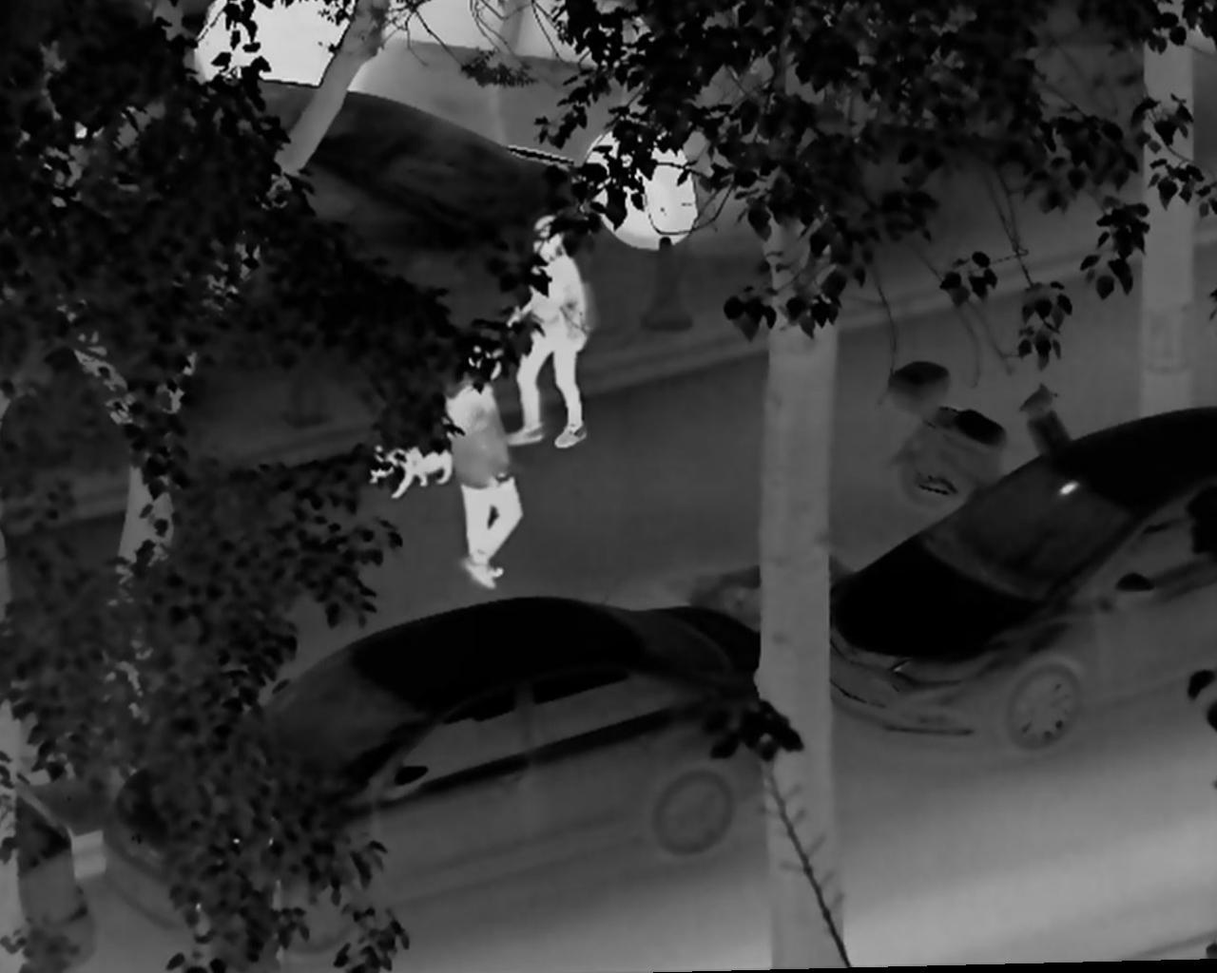person: (500, 217, 593, 453), (447, 336, 525, 595)
